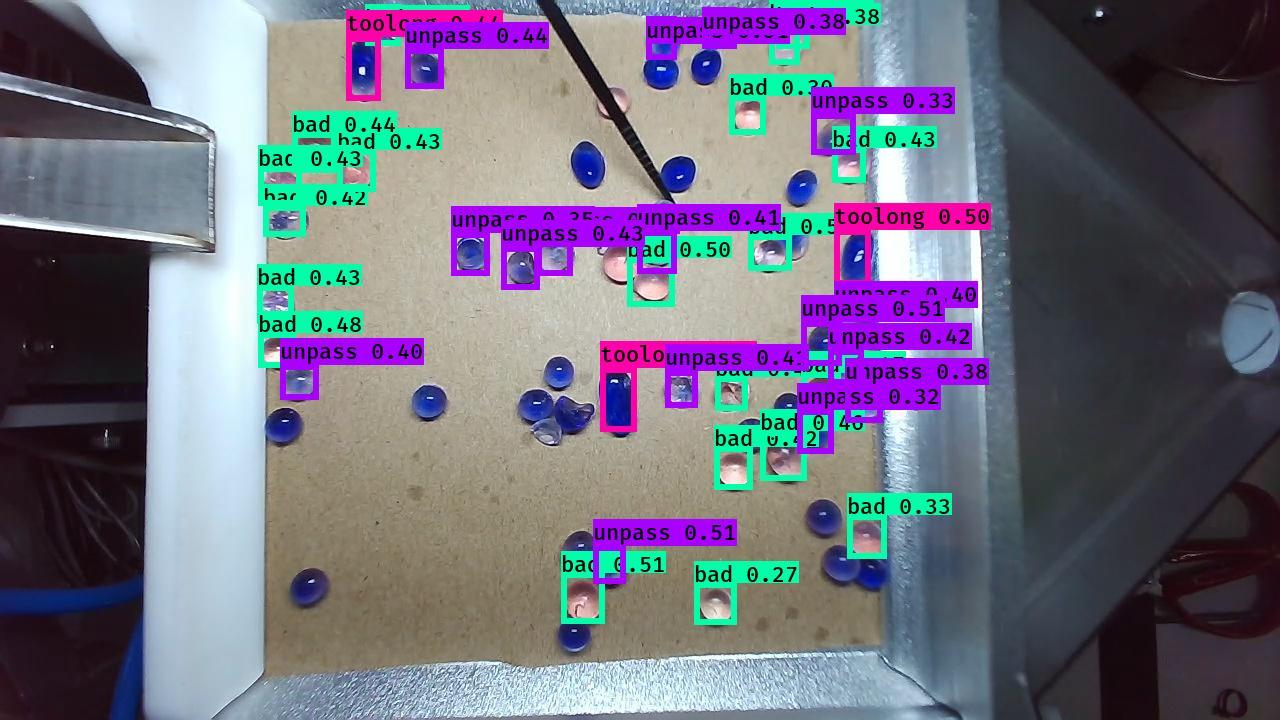bad: (765, 437, 808, 485), (559, 577, 605, 621), (297, 128, 341, 173), (336, 142, 379, 187), (846, 518, 892, 559), (259, 169, 306, 209), (695, 585, 736, 629), (731, 95, 767, 140), (632, 263, 673, 302), (603, 242, 640, 284), (365, 10, 404, 49), (803, 374, 844, 411), (269, 205, 313, 238), (715, 447, 752, 486), (768, 27, 805, 66), (258, 288, 295, 326), (715, 379, 751, 414), (835, 146, 867, 185), (260, 334, 295, 367), (780, 1, 815, 32), (753, 239, 784, 274), (530, 420, 561, 448)
defact: (595, 215, 627, 260)
pass: (551, 391, 596, 443), (570, 140, 609, 190), (263, 408, 306, 449), (287, 568, 330, 609), (818, 542, 859, 585), (515, 391, 554, 435), (411, 382, 452, 423), (559, 526, 595, 569), (806, 500, 845, 539), (555, 614, 593, 654), (734, 423, 772, 462), (660, 155, 698, 194), (644, 54, 680, 93), (688, 48, 723, 87), (540, 354, 575, 393), (773, 390, 807, 429), (786, 168, 817, 209)
toolong: (599, 367, 645, 439), (342, 40, 381, 103), (839, 227, 875, 289)
unpass: (812, 114, 858, 161), (451, 232, 491, 278), (498, 249, 540, 291), (769, 218, 810, 259), (658, 374, 700, 411), (277, 364, 319, 401), (804, 323, 840, 365), (408, 50, 445, 90), (594, 543, 627, 587), (537, 236, 576, 273), (644, 197, 682, 234), (826, 352, 863, 387), (798, 416, 835, 450), (846, 388, 883, 422), (841, 310, 873, 349), (702, 11, 737, 46), (644, 232, 677, 269), (645, 17, 676, 56)
